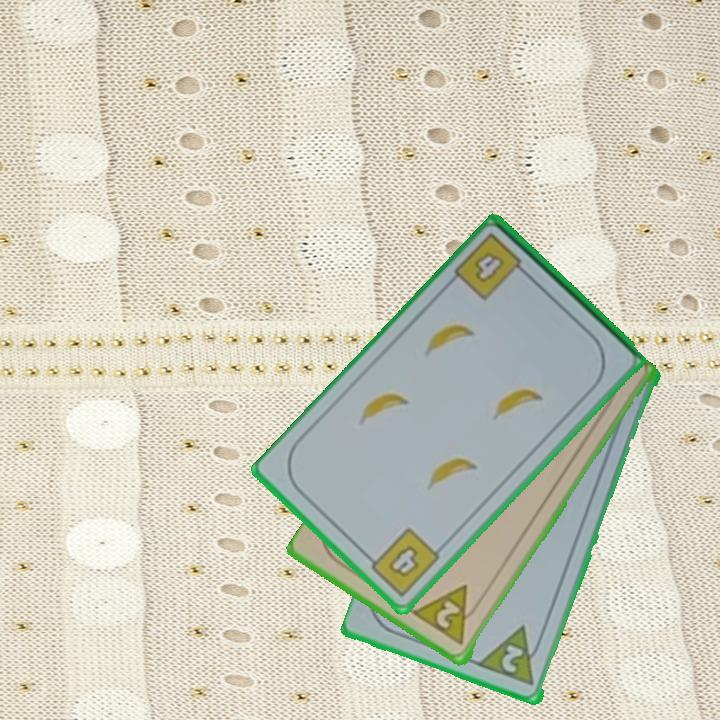2p: (411, 581, 485, 649), (498, 641, 527, 677)
4b: (362, 524, 443, 600), (451, 229, 533, 304)
